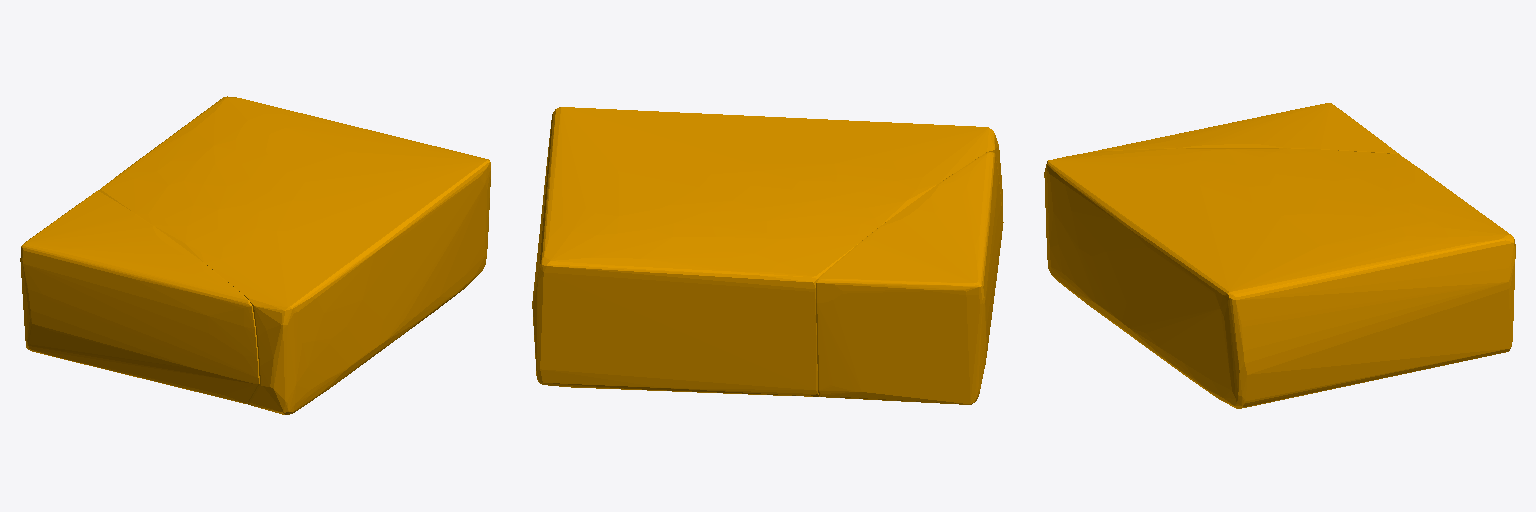
URDF robot description (008_pudding_box):
<?xml version="1.0" encoding="UTF-8"?>
<robot name="008_pudding_box">
	<link name="base">
		<collision>
			<geometry>
				<mesh filename="..\vhacd\008_pudding_box_vhacd.obj" scale="1.0 1.0 1.0"/>
			</geometry>
			<origin xyz="0 0 0"/>
			<contact_coefficients mu="0.24" />
		</collision>
		<visual>
			<geometry>
				<mesh filename="..\vhacd\008_pudding_box_vhacd.obj" scale="1.0 1.0 1.0"/>
			</geometry>
			<origin xyz="0 0 0"/>
		</visual>
		<inertial>
			<mass value="0"/>
			<inertia ixx="0.0" ixy="-0.0" ixz="-0.0" iyy="0.0" iyz="-0.0" izz="0.0" />
			<origin xyz="0.0015176496021096551 0.018795882096981905 0.018657701994508013"/>
		</inertial>
	</link>
</robot>

--- What the picture shows (computed from the rendered views, not written in the file) ---
3 views of the same robot in one strip: view 1: azimuth 30°, elevation 25°; view 2: azimuth 150°, elevation 25°; view 3: azimuth 270°, elevation 25° (orthographic).
Robot: 008_pudding_box — 1 links, 0 joints (none); root link base; default pose: all joints at 0.
Links seen in each view (by area): view 1: base; view 2: base; view 3: base.
Link boxes in pixels (x1=…): base: x1=20, y1=96, x2=490, y2=414; base: x1=532, y1=107, x2=1003, y2=404; base: x1=1044, y1=103, x2=1515, y2=408.
Size in the robot's own frame: 0.1383 by 0.1291 by 0.0394 metres.
Meshes: 1 distinct files referenced, 1 mesh visuals loaded (1 OBJ).